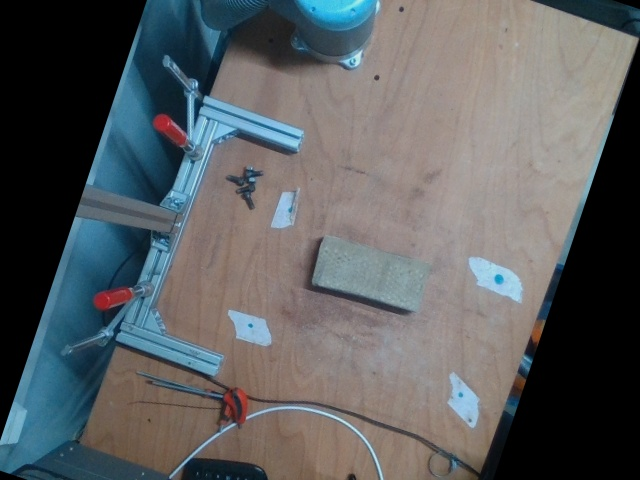brick: (310, 235, 433, 311)
